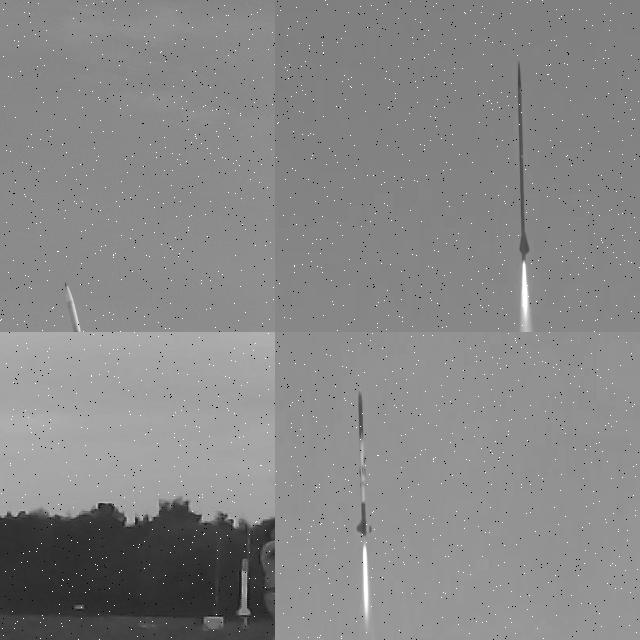Rocket: (352, 388, 372, 541), (517, 62, 530, 267), (63, 281, 100, 332), (236, 558, 252, 616)
